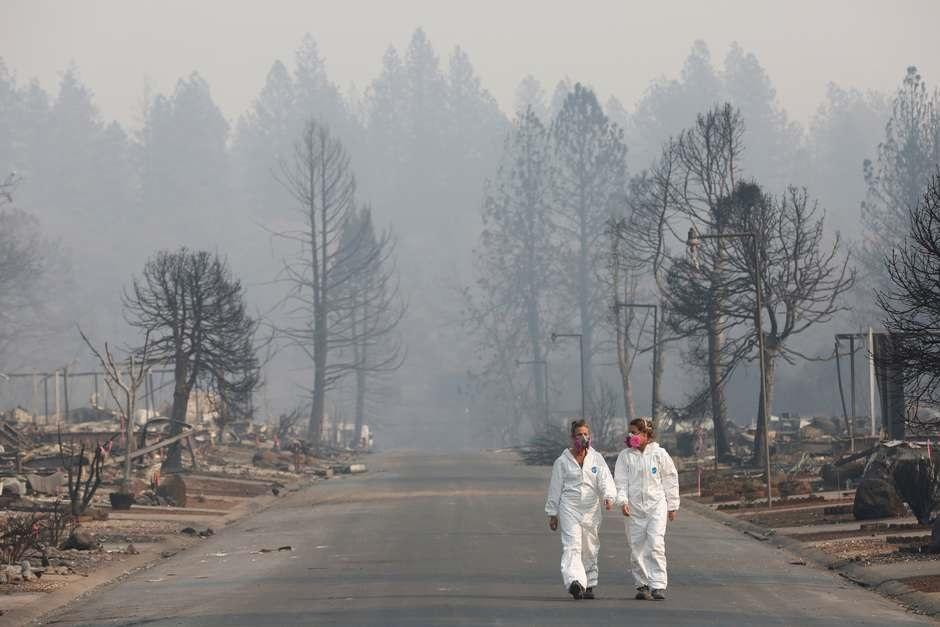smoke: (362, 152, 467, 243)
